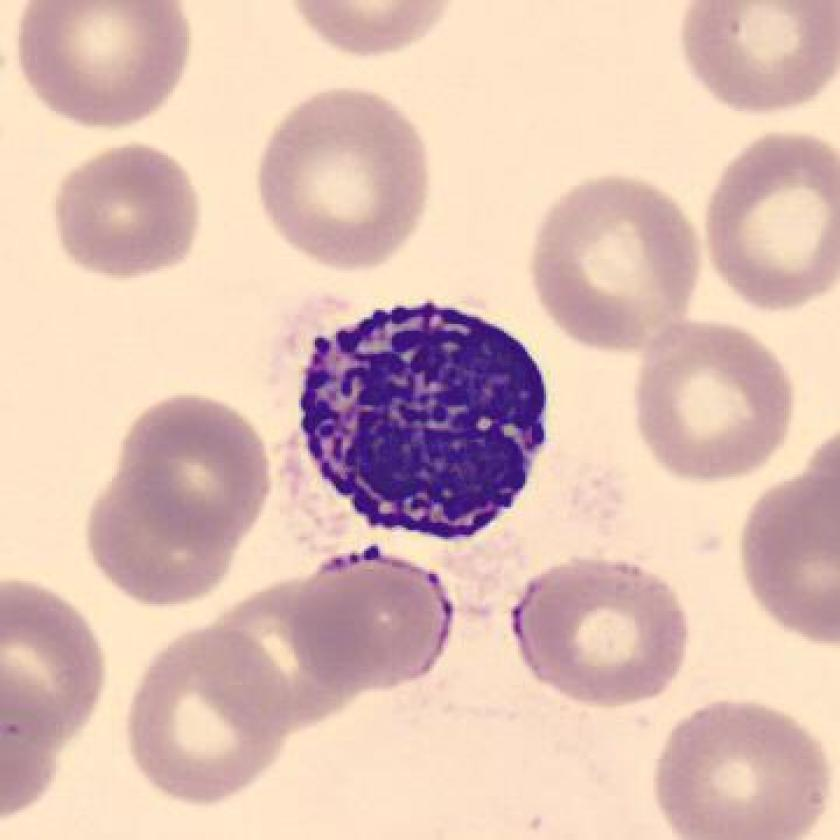basophil: (293, 295, 570, 561)
